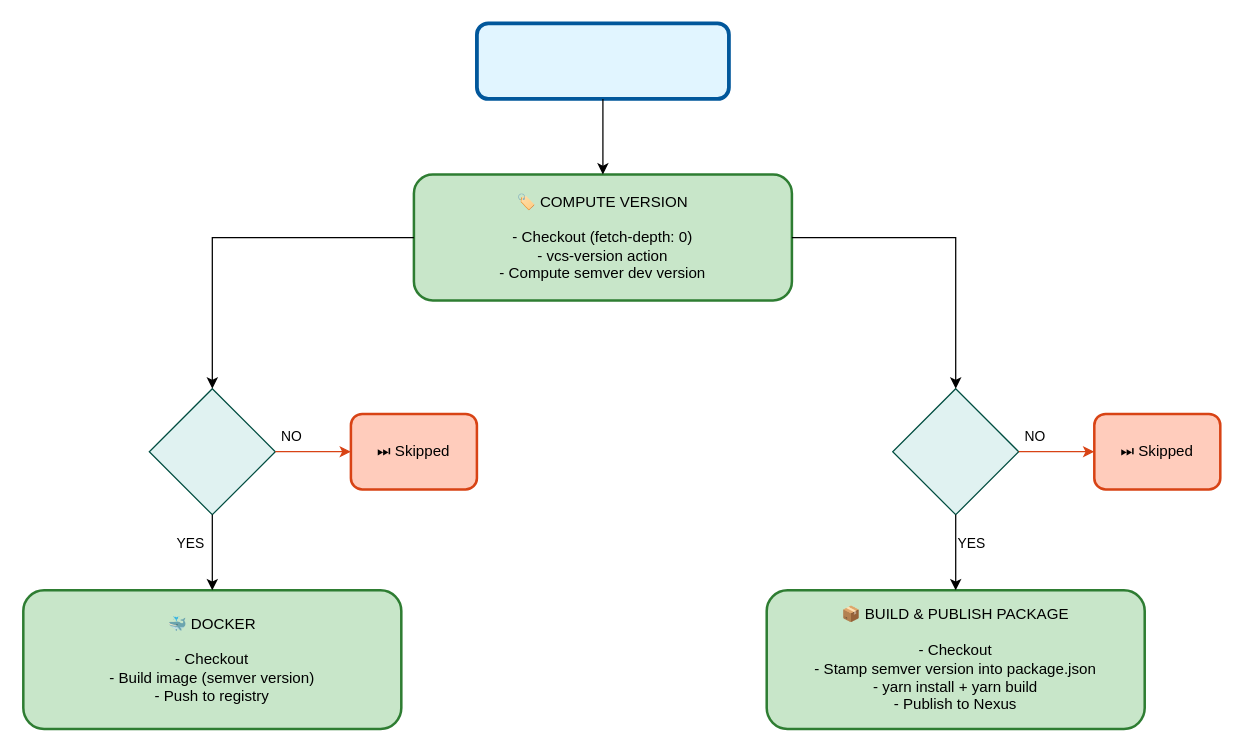
The diagram is 1242 pixels wide and 752 high, and some of its shapes have lost their labels. Each missing label, with the centre of its shape:
"Docker Enabled?" belongs at point (211, 451).
"Publish Enabled?" belongs at point (955, 451).
"🚀 Workflow Triggered" belongs at point (602, 60).
